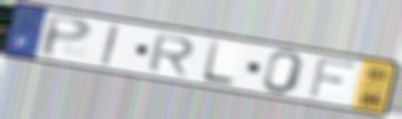0: (262, 49, 307, 96)
F: (306, 55, 360, 100)
I: (99, 22, 124, 68)
L: (199, 38, 238, 88)
P: (39, 13, 95, 60)
R: (144, 32, 197, 78)
